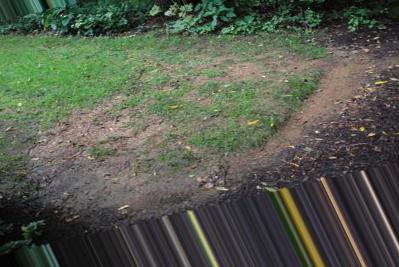patch: (60, 119, 151, 181), (281, 70, 355, 133)
